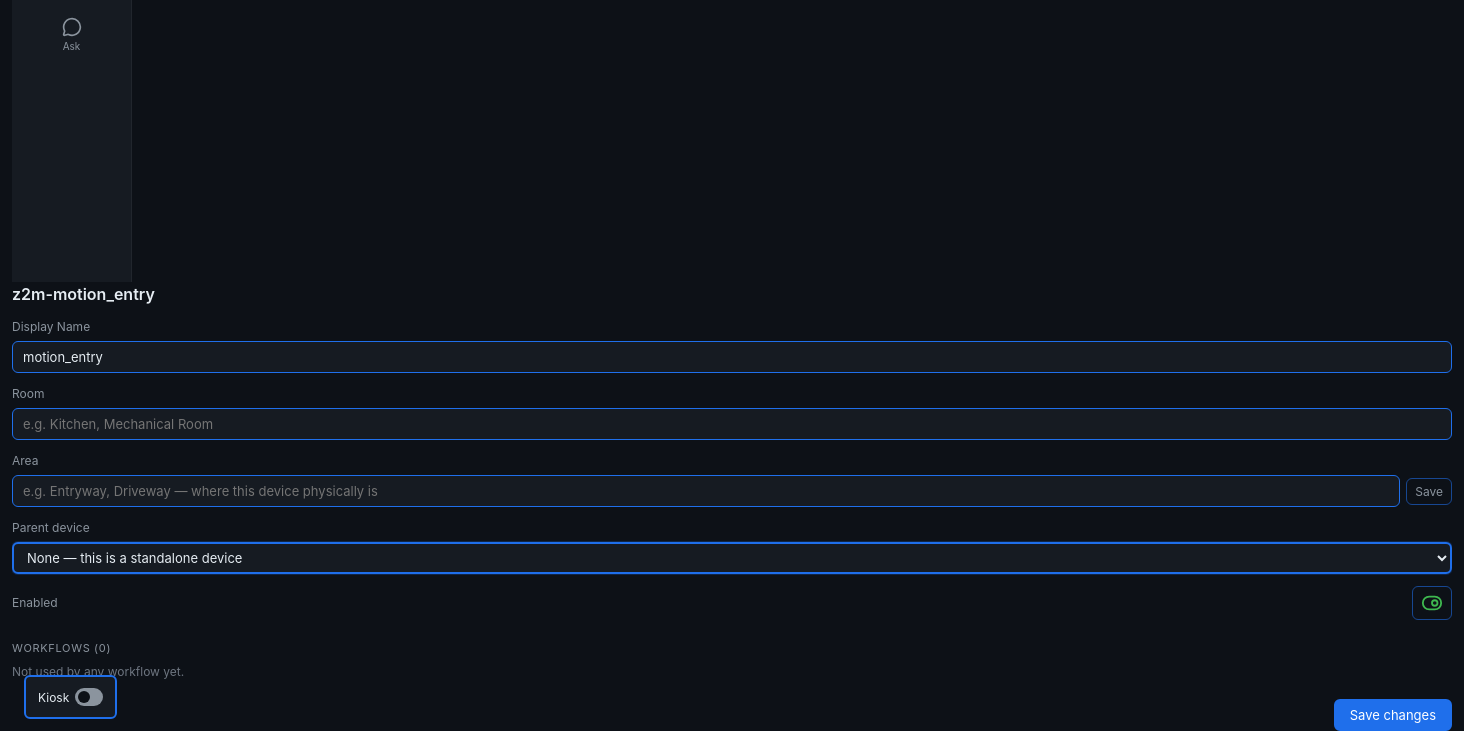
Scenario: DmAreaEditor (Area pipe, via DmEditForm) › shows a real error instead of a silent failure when the area save fails
(page scrolled)
In the field labelled "Area Save": (706, 491) [12,475,1400,507], type "Somewhere"
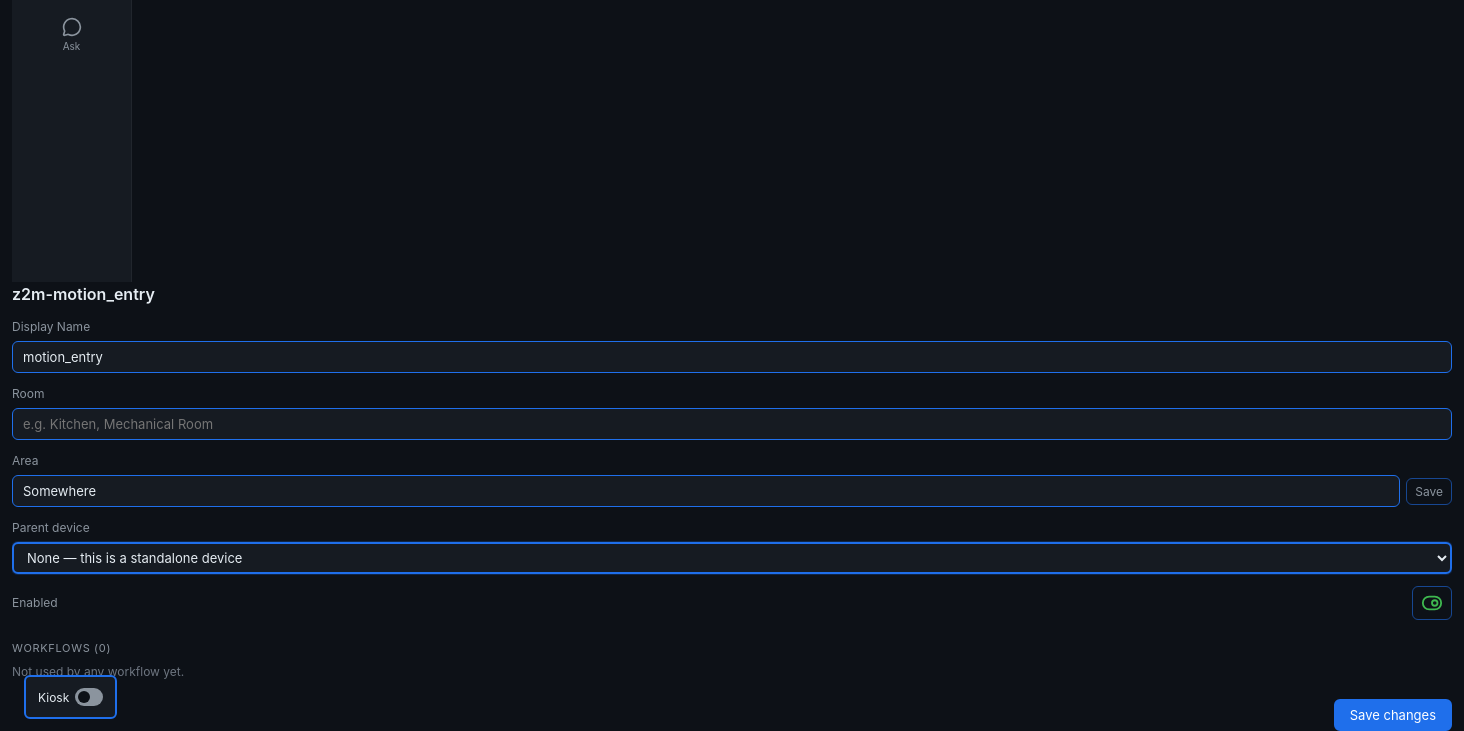
Click the button "Save": (1429, 491) [1406,478,1452,504]
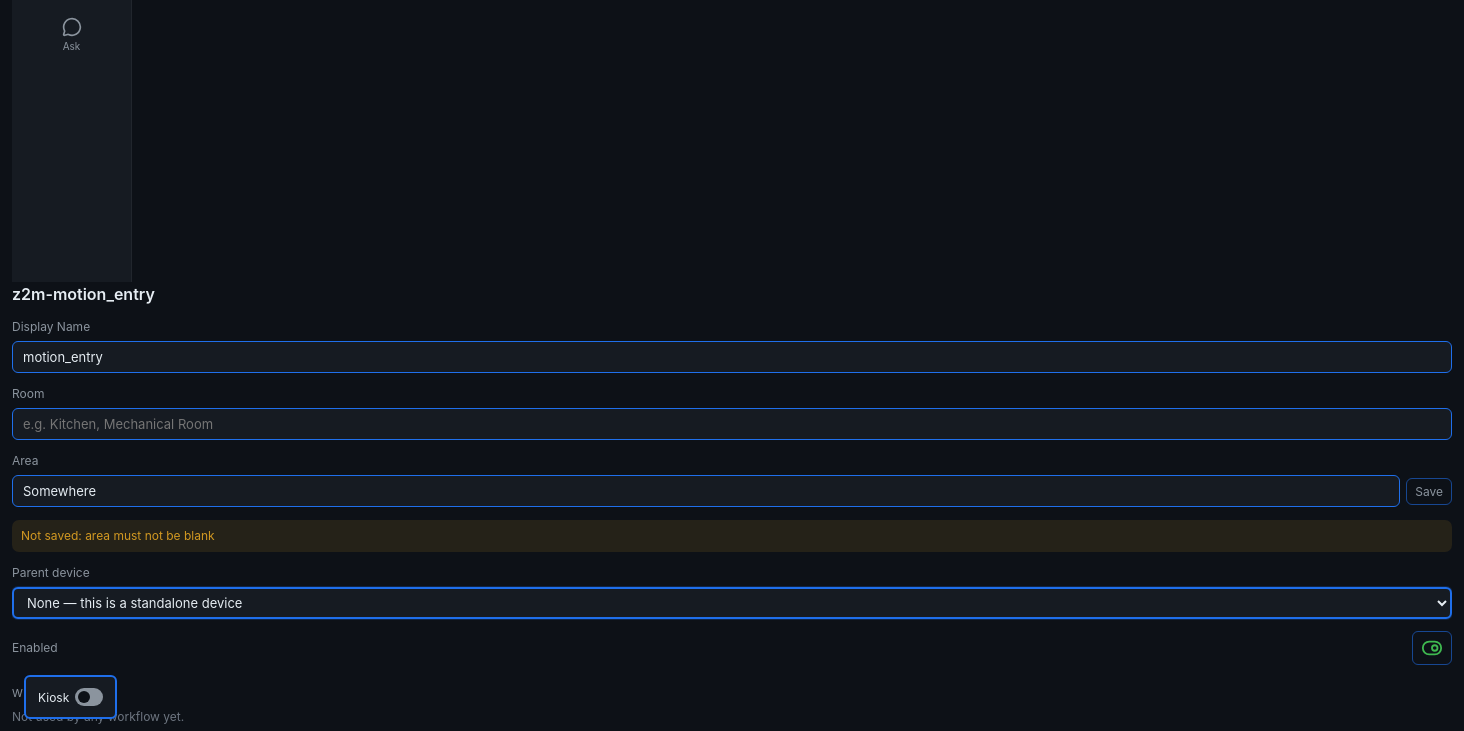
Check: the text "Not saved: area must not be blank" is shown, box [12,520,1452,552]
